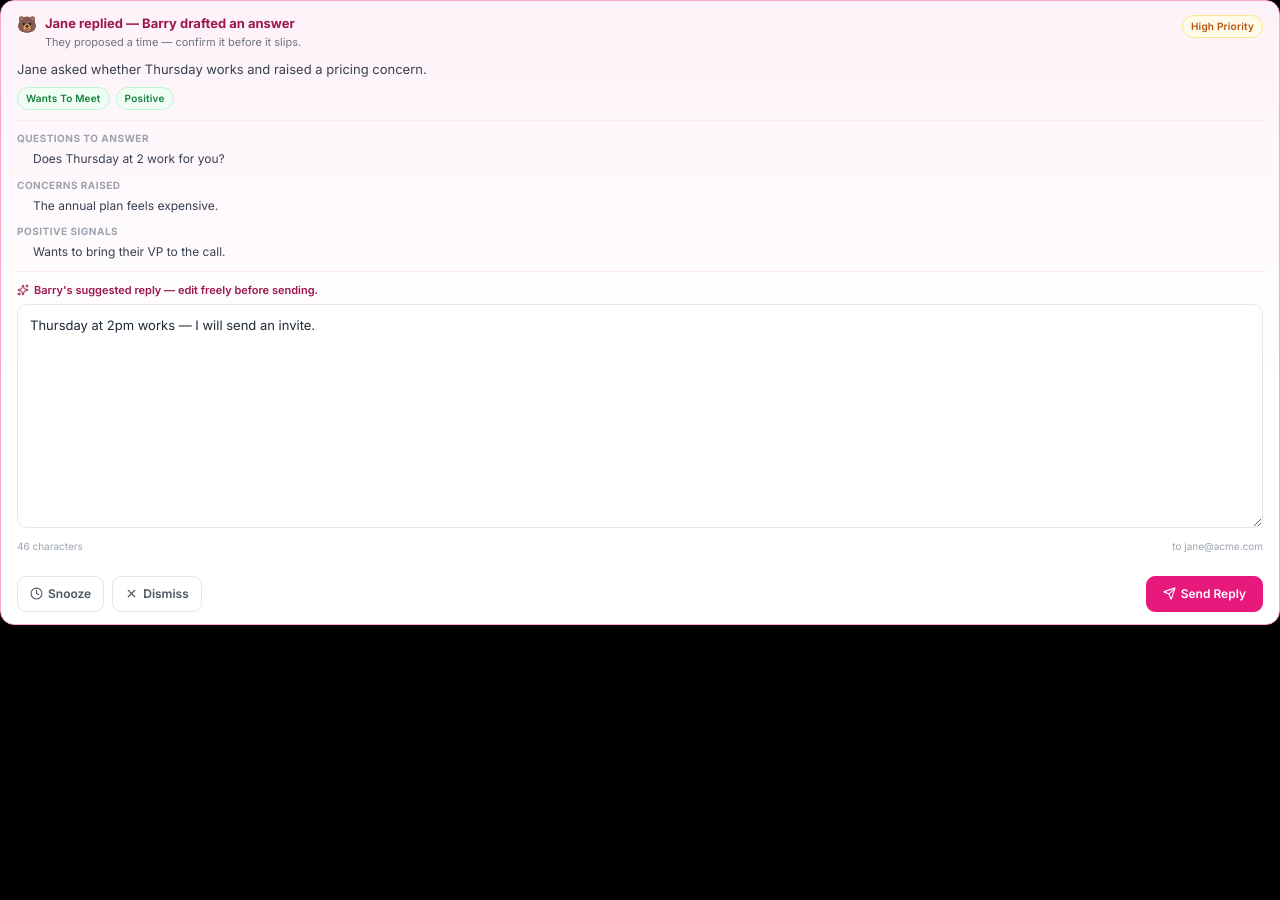
Scenario: snooze › surfaces a snooze failure instead of hiding the card
The width and height of the screenshot is (1280, 900).
Click the button "Snooze". click: {"x": 61, "y": 594}
box: top-left (17, 576), bottom-right (104, 612)
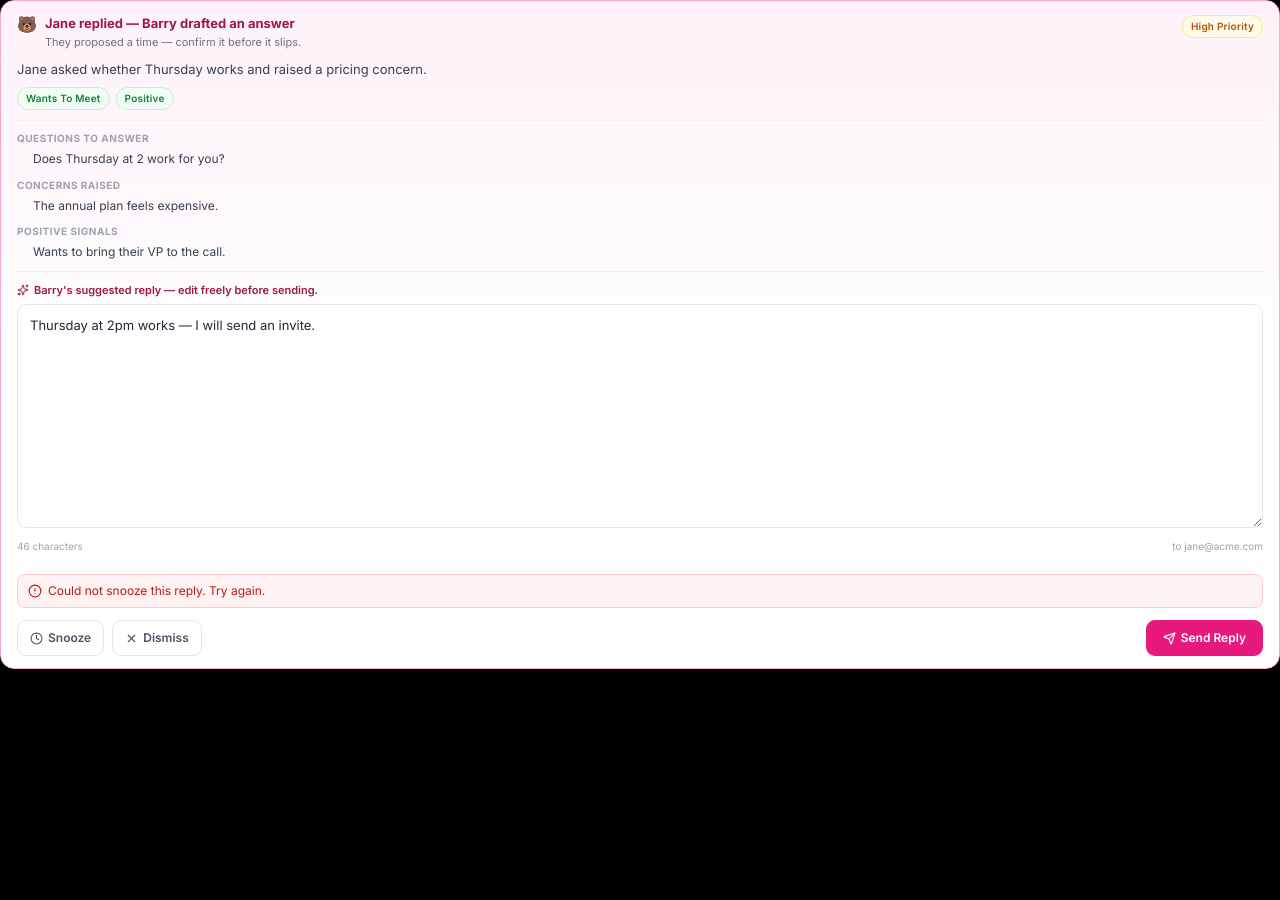
Result: the message shows "Could not snooze" at top-left (48, 582), bottom-right (265, 598)
